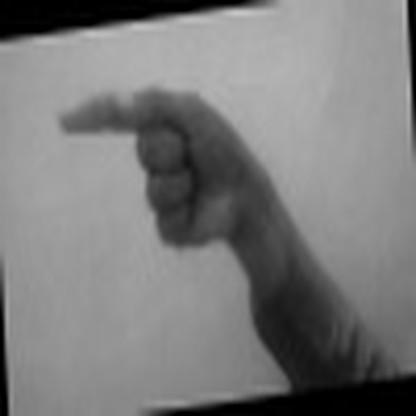g: (43, 76, 276, 258)
